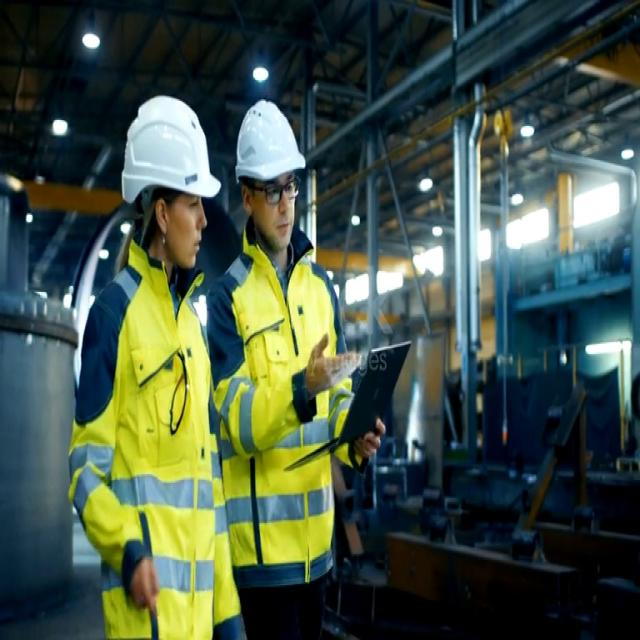capacete: (106, 75, 219, 222), (227, 94, 319, 190)
